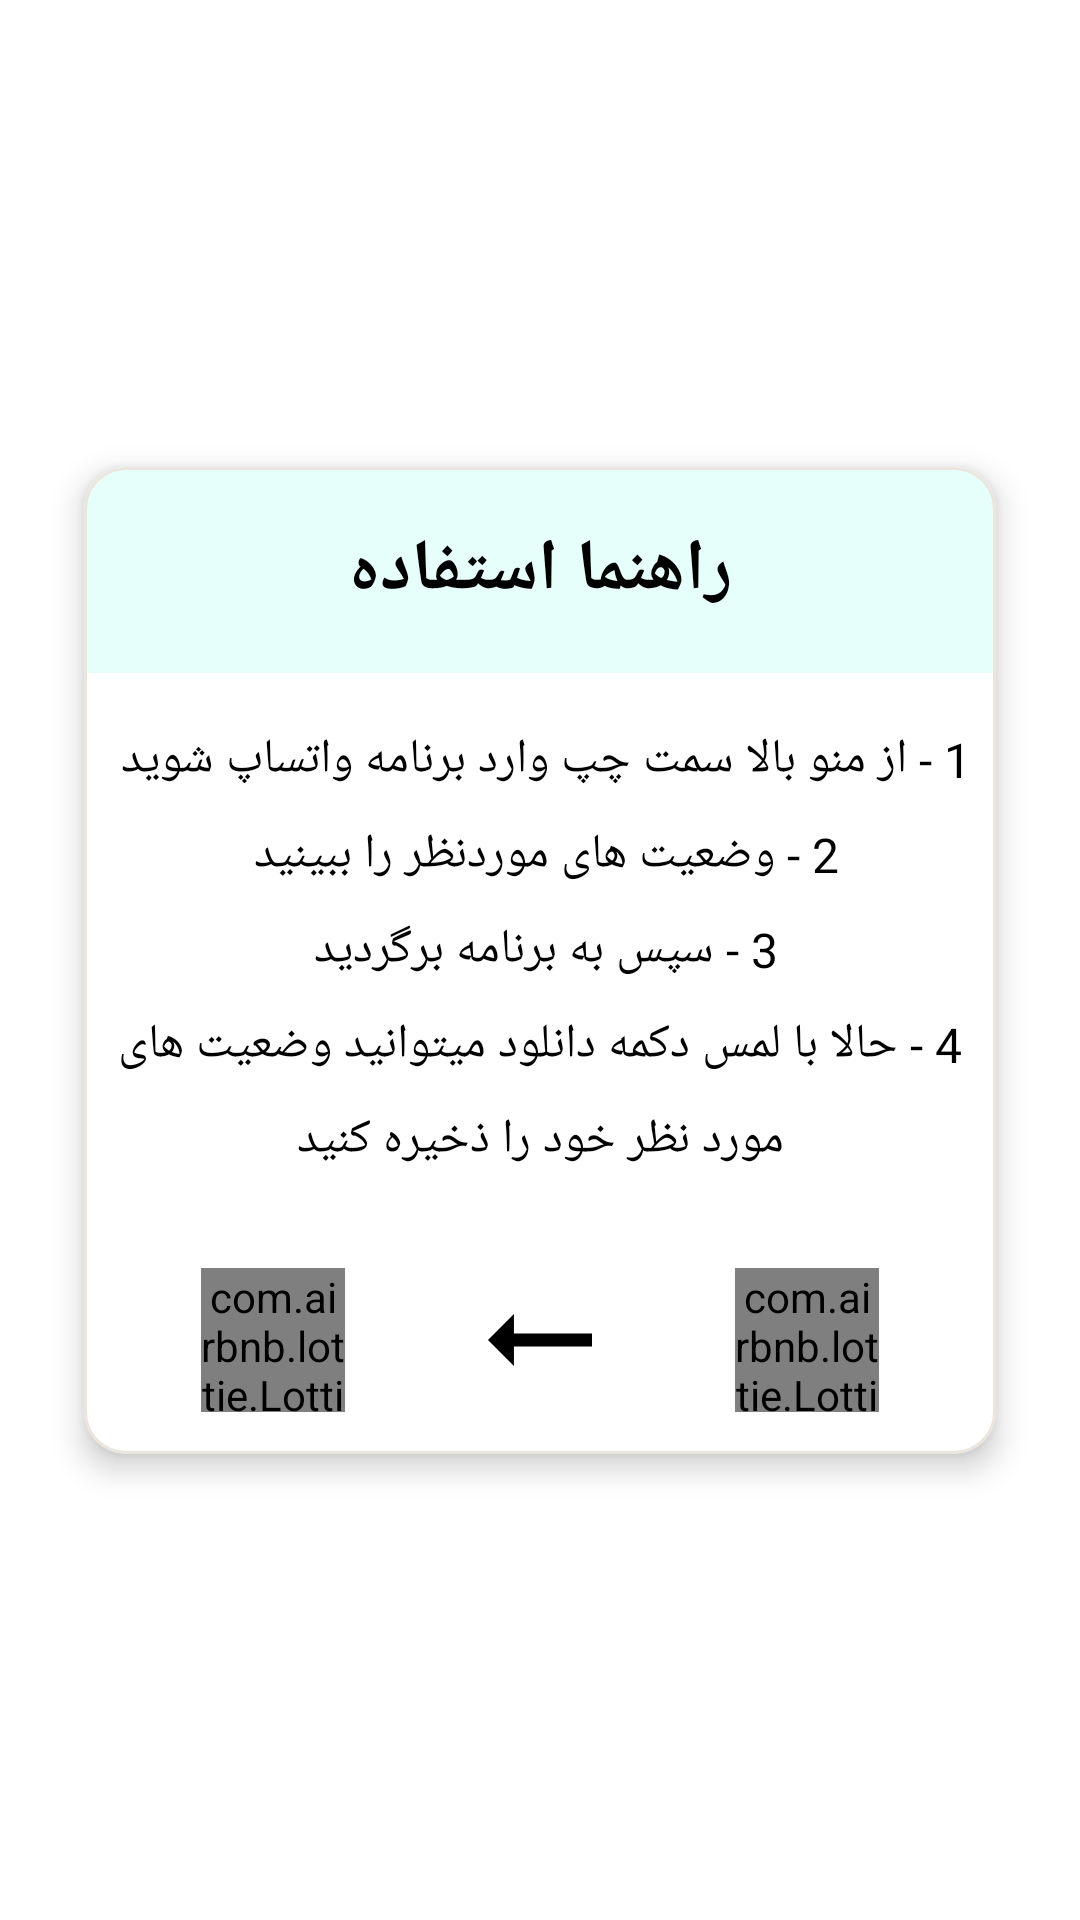

Where icons sit on this 1080x1920 app screen, as (x1, y1, x2, y2):
arrow: (488, 1314, 592, 1366)
